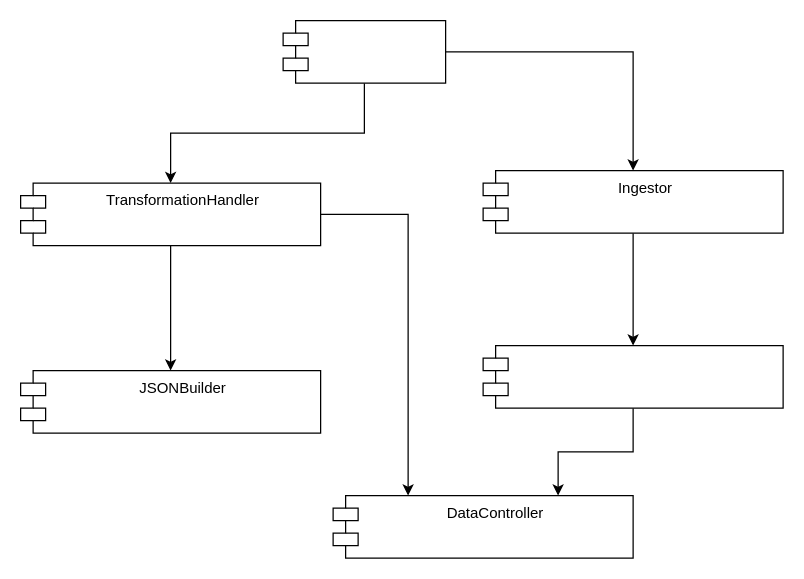
The diagram is 804 pixels wide and 579 high, and some of its shapes have lost their labels. The shapes that lost their labels are listed below. From the top down, each one's centre as x and y in pixels, then its label:
(x=364, y=51): WSListener
(x=632, y=376): XMIBuilder
